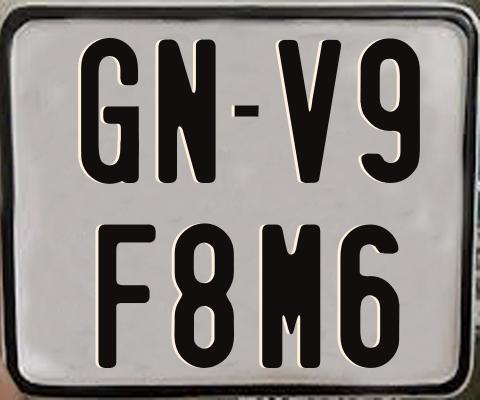6: (340, 224, 401, 369)
8: (171, 220, 234, 366)
9: (359, 38, 423, 186)
F: (97, 221, 155, 366)
G: (80, 38, 140, 188)
M: (259, 223, 322, 369)
N: (158, 38, 222, 186)
V: (279, 40, 342, 184)
